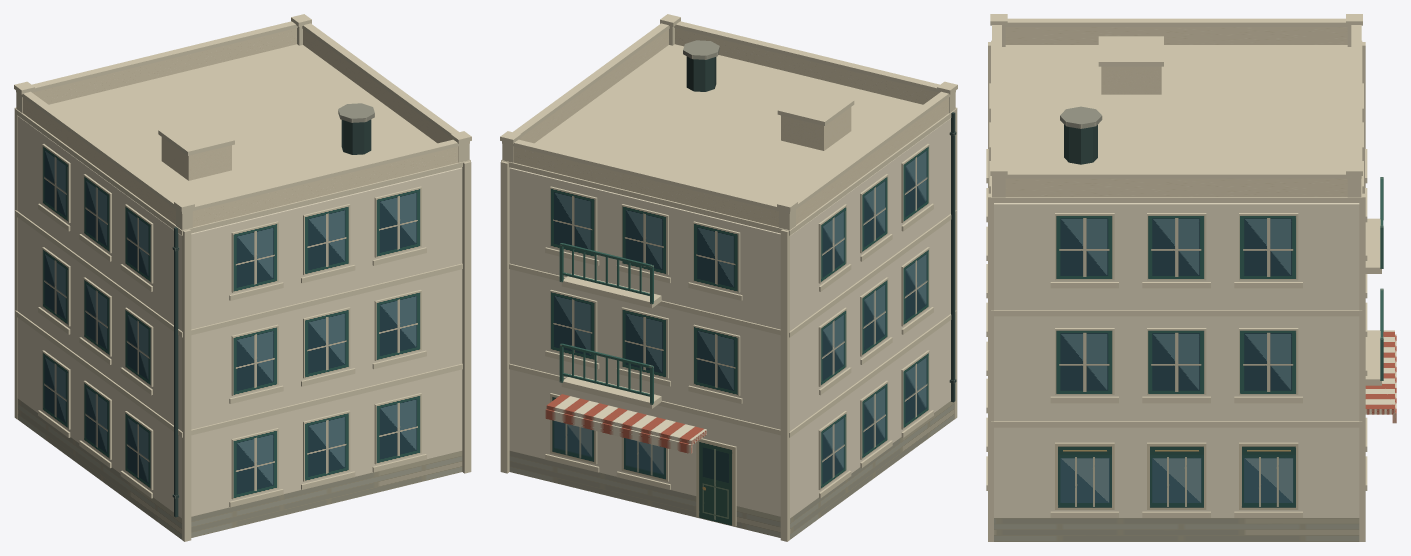
The model's file is SM_QD_Flat_CornerShop.fbx.
The picture shows the model from 3 angles, left to right: view 1: azimuth 30°, elevation 25°; view 2: azimuth 150°, elevation 25°; view 3: azimuth 270°, elevation 25°; orthographic projection. The views are drawn at different scales.
Visible parts, largest first — view 1: SM_QD_Flat_CornerShop; view 2: SM_QD_Flat_CornerShop; view 3: SM_QD_Flat_CornerShop.
Boxes of the visible parts, box(x1,y1,x2,y2) form: SM_QD_Flat_CornerShop: box(14, 14, 471, 541); SM_QD_Flat_CornerShop: box(500, 14, 957, 541); SM_QD_Flat_CornerShop: box(986, 14, 1396, 541).
Size of the model in its own units: 7.57 by 8.15 by 8.48.
Materials: 1 (1 with a texture image).
